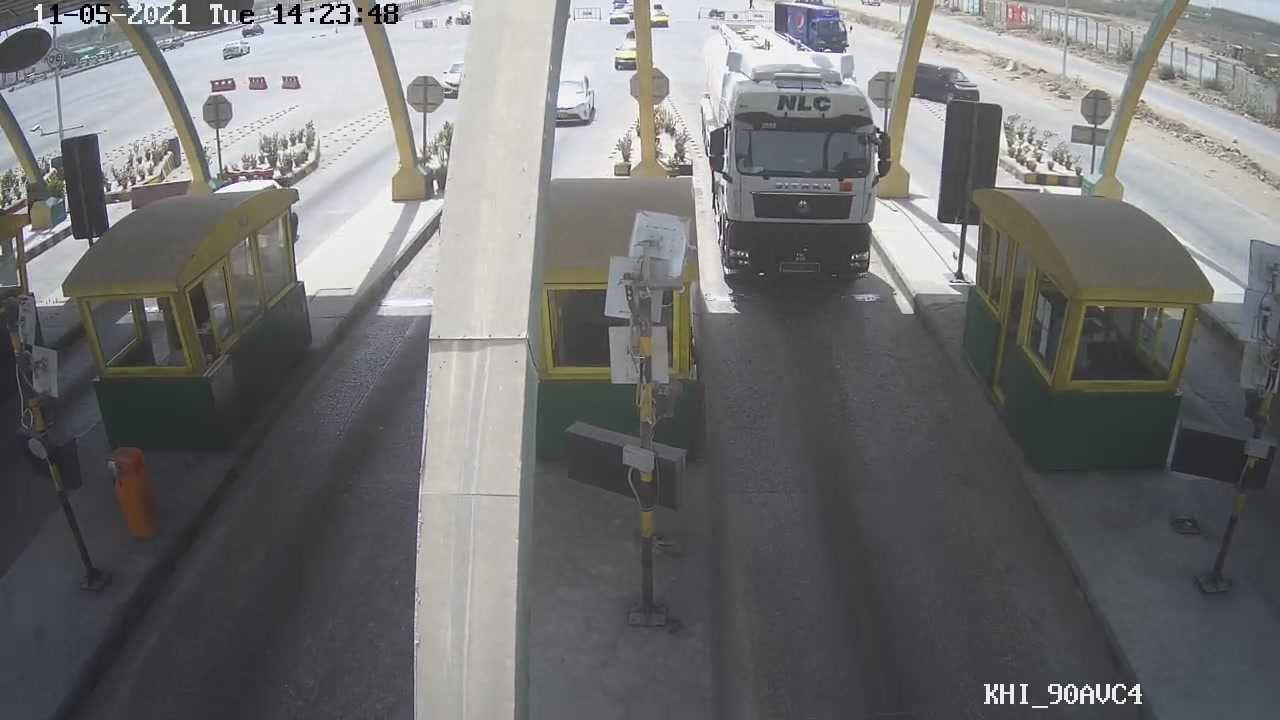F6: (700, 11, 893, 298)
